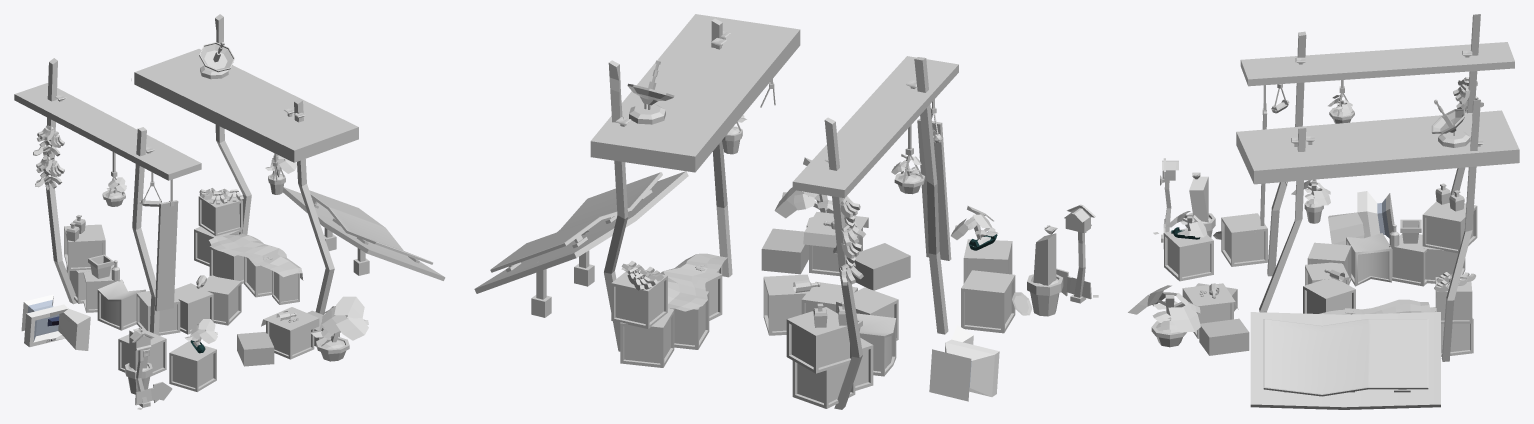
File: VendinhaQuebrada.fbx
The picture shows the model from 3 angles, left to right: view 1: azimuth 30°, elevation 25°; view 2: azimuth 150°, elevation 25°; view 3: azimuth 270°, elevation 25°; orthographic projection. The views are drawn at different scales.
Parts seen in each view (by area): view 1: estrutura; view 2: estrutura; view 3: estrutura.
Part boxes in pixels (<box>): estrutura: <box>14,14,445,409</box>; estrutura: <box>474,14,1098,409</box>; estrutura: <box>1128,14,1519,409</box>.
Bounding box in the file's own units: 828 × 695 × 517.
